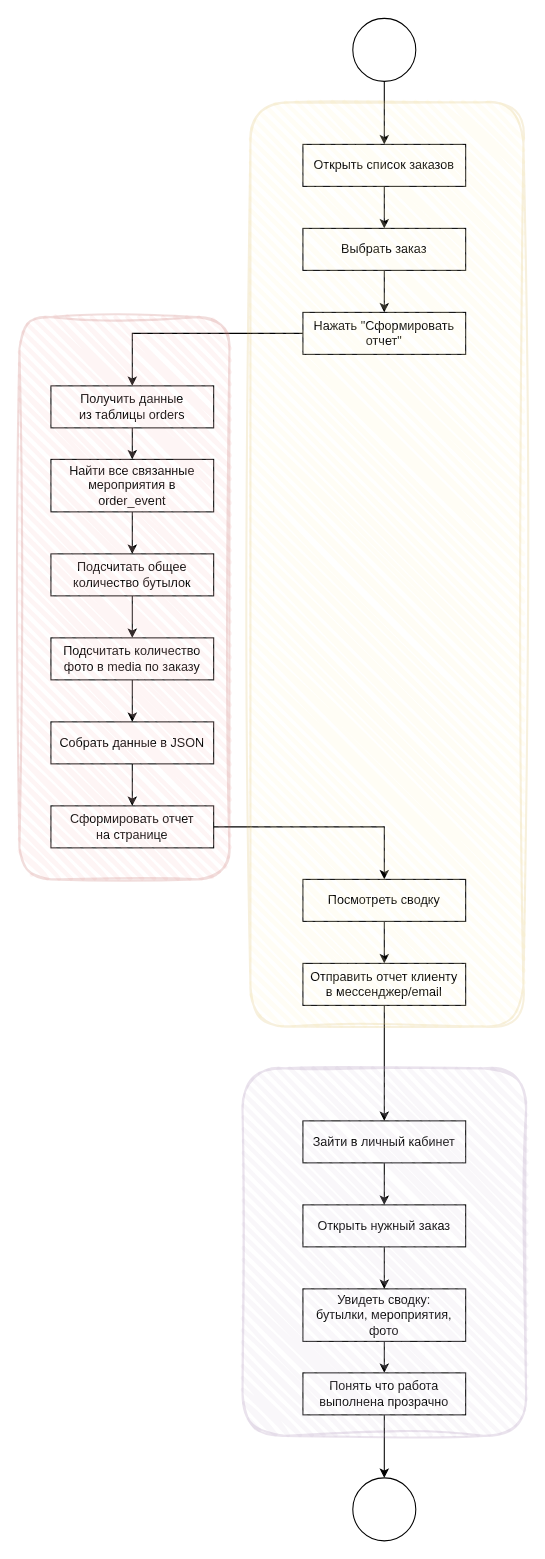
Some shapes in this 545 by 1559 pixel diagram are drawn without their labels. Each missing label, with the centre of its shape:
"Клиент" belongs at (x=384, y=1251).
"Конец" belongs at (x=384, y=1509).
"Менеджер" belongs at (x=386, y=564).
"Начало" belongs at (x=384, y=49).
"Система" belongs at (x=124, y=598).
